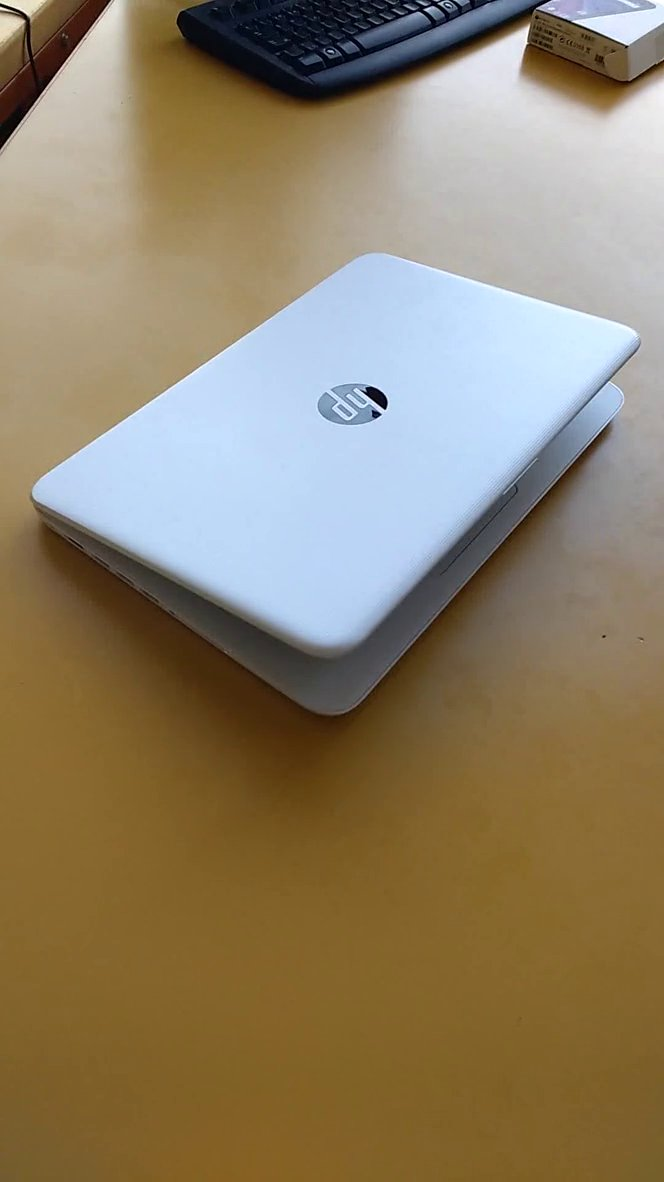laptop: (3, 225, 664, 761)
